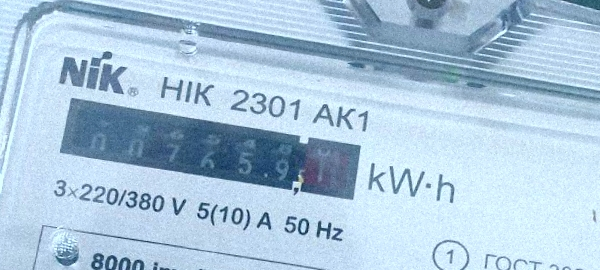0: (86, 127, 108, 155), (124, 133, 146, 161)
1: (311, 153, 329, 187)
5: (232, 147, 257, 177)
6: (196, 145, 218, 171)
7: (159, 139, 183, 167)
9: (269, 154, 291, 184)
screen: (46, 83, 374, 217)
